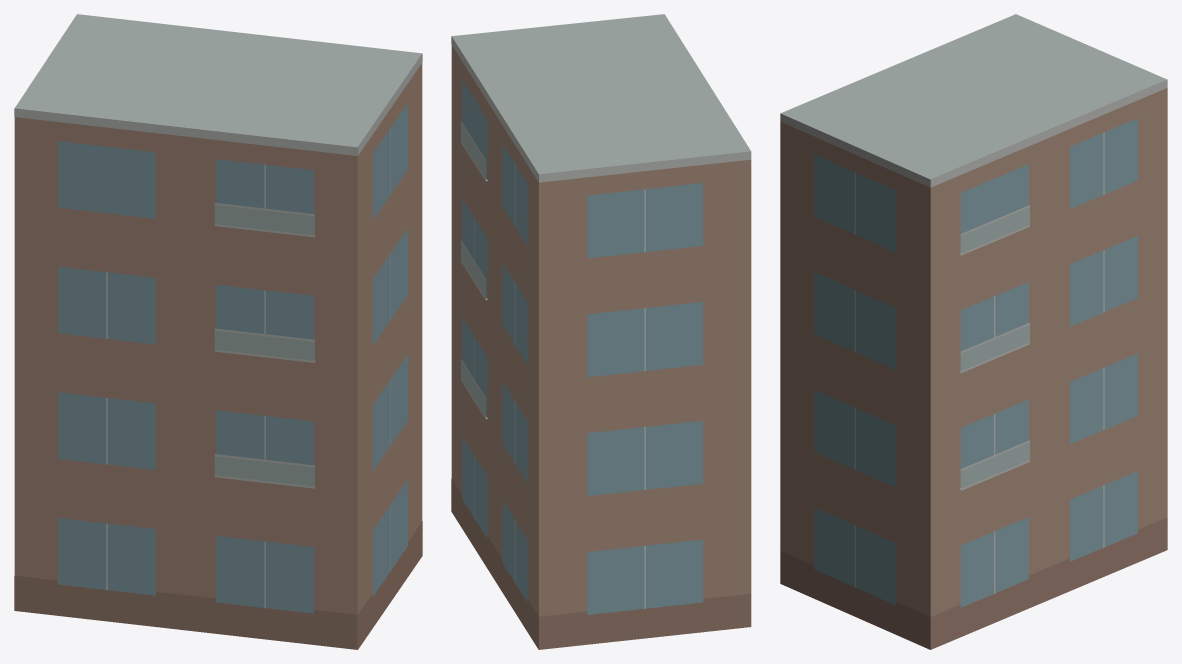
File: survey-upis-32785948.glb
The picture shows the model from 3 angles, left to right: view 1: azimuth 30°, elevation 25°; view 2: azimuth 150°, elevation 25°; view 3: azimuth 270°, elevation 25°; orthographic projection. The views are drawn at different scales.
Visible parts, largest first — view 1: survey-upis-32785948.tmp; view 2: survey-upis-32785948.tmp; view 3: survey-upis-32785948.tmp.
Boxes of the visible parts, x1,y1,x2,y2 form: survey-upis-32785948.tmp: (14,14,422,649); survey-upis-32785948.tmp: (451,14,751,649); survey-upis-32785948.tmp: (780,14,1167,649).
Size of the model in its own units: 10.61 by 14.05 by 10.49.
